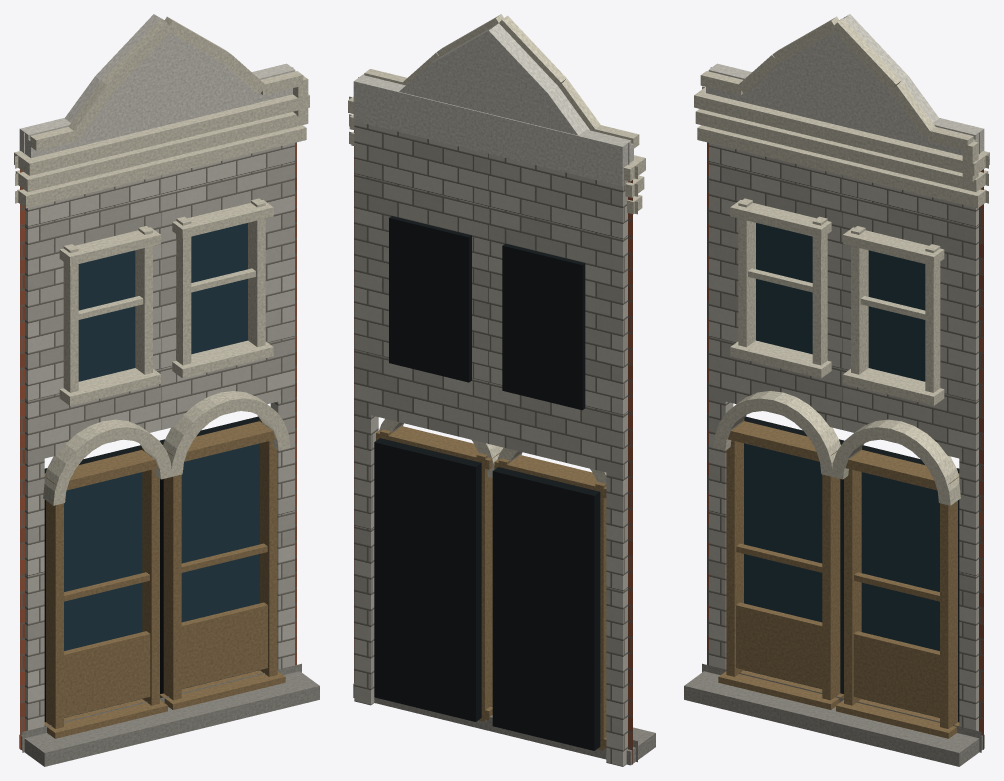
Rendered from CLSTGA11_lod2.glb.
The picture shows the model from 3 angles, left to right: view 1: azimuth 30°, elevation 25°; view 2: azimuth 150°, elevation 25°; view 3: azimuth 330°, elevation 25°; orthographic projection.
Parts seen in each view (by area): view 1: CLSTGA11_FRONT_LOD2; view 2: CLSTGA11_FRONT_LOD2; view 3: CLSTGA11_FRONT_LOD2.
Part boxes in pixels (x1,y1,x2,y2): CLSTGA11_FRONT_LOD2: [14, 14, 319, 766]; CLSTGA11_FRONT_LOD2: [348, 14, 655, 766]; CLSTGA11_FRONT_LOD2: [684, 14, 989, 766].
Size of the model in its own units: 3.44 by 8.05 by 0.68.
Materials: 9 (7 with a texture image).
